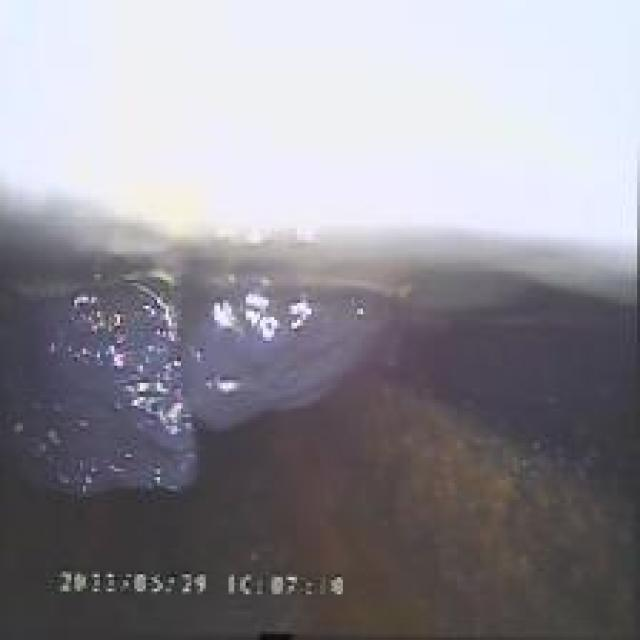stone: (20, 272, 477, 517)
